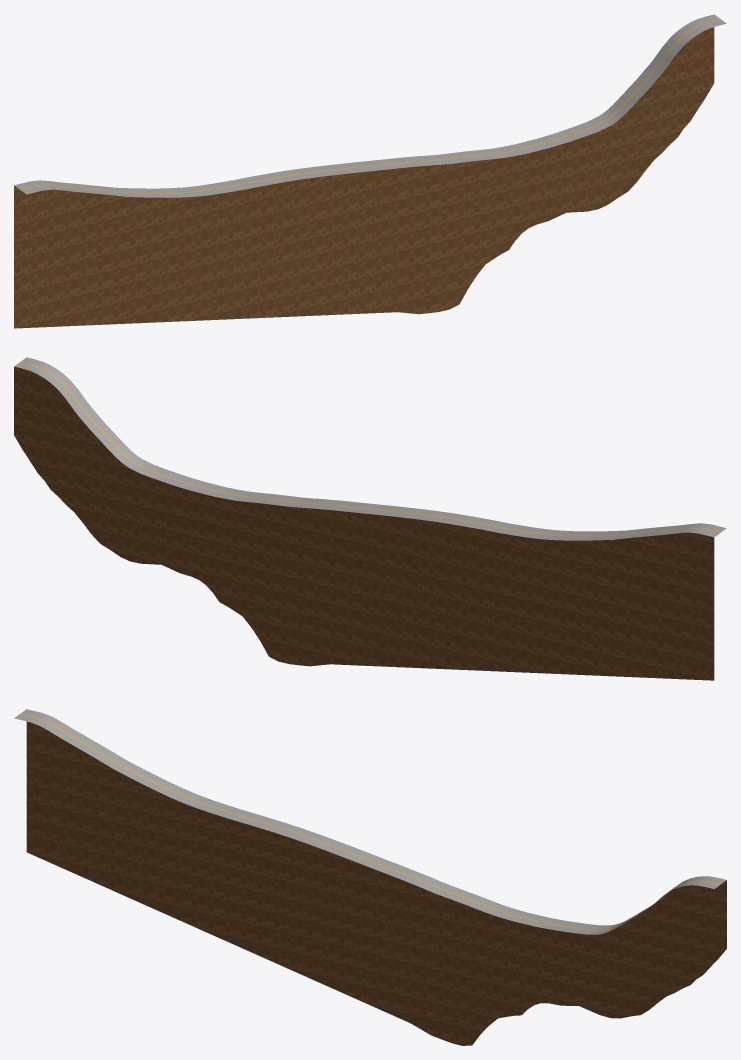
Rendered from Terrain_04_slope.FBX.
3 renders of one model, top to bottom at view 1: azimuth 30°, elevation 25°; view 2: azimuth 150°, elevation 25°; view 3: azimuth 330°, elevation 25°, orthographic.
Parts seen in each view (by area): view 1: Terrain_04_ground, Terrain_04; view 2: Terrain_04_ground, Terrain_04; view 3: Terrain_04_ground, Terrain_04.
Boxes of the visible parts, x1=… form: Terrain_04_ground: x1=14, y1=27, x2=714, y2=328; Terrain_04: x1=14, y1=14, x2=726, y2=197; Terrain_04_ground: x1=14, y1=366, x2=714, y2=680; Terrain_04: x1=14, y1=357, x2=726, y2=540; Terrain_04_ground: x1=26, y1=721, x2=726, y2=1045; Terrain_04: x1=14, y1=709, x2=726, y2=934.
Bounding box in the file's own units: 1280 × 403 × 40.
